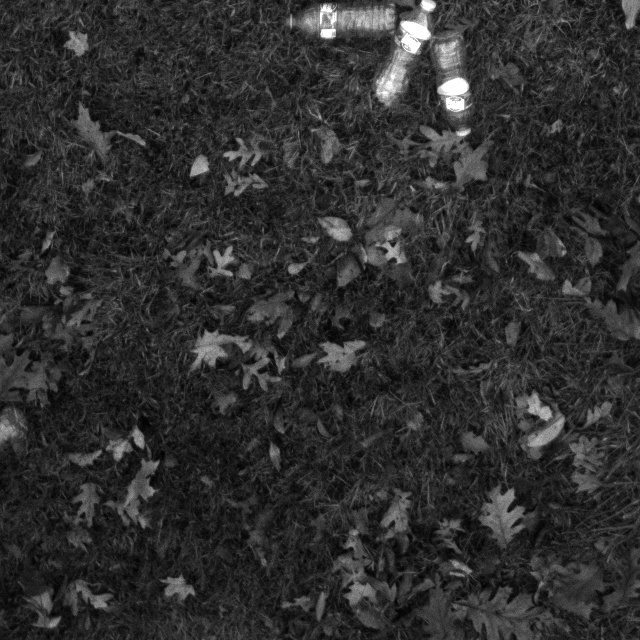bottle: (412, 29, 489, 150), (371, 0, 445, 121), (274, 0, 405, 55)
